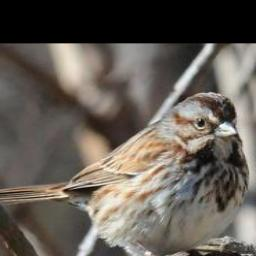Sparrow: (0, 89, 249, 256)
